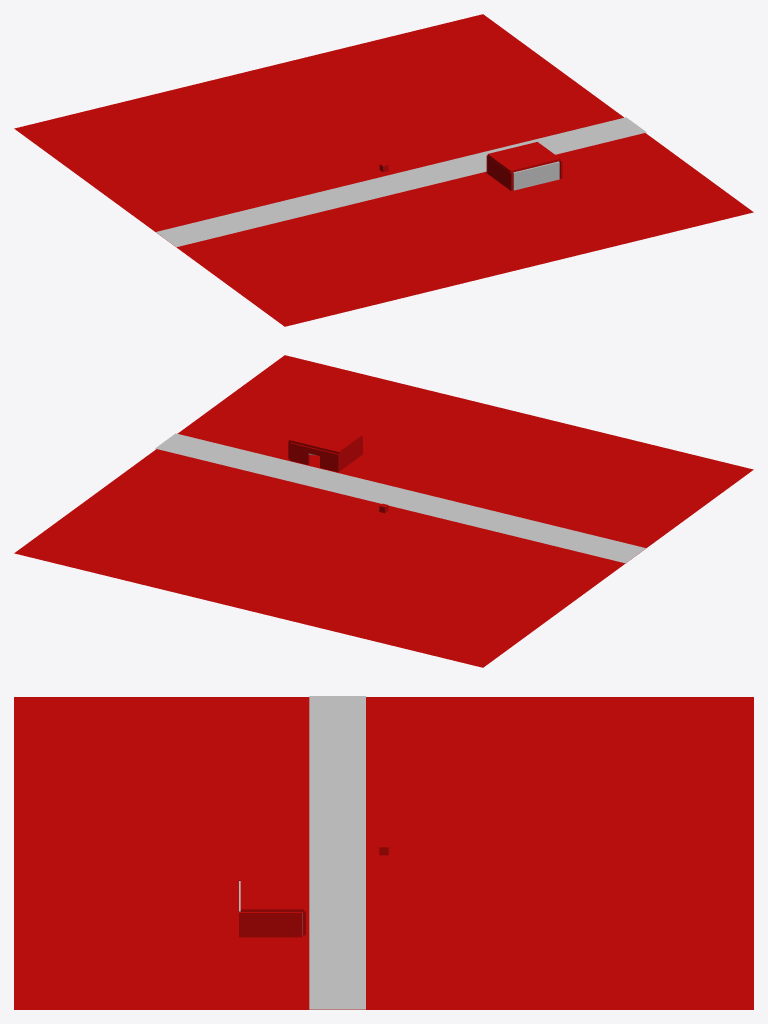
Rendered from map.obj.
3 renders of one model, top to bottom at view 1: azimuth 30°, elevation 25°; view 2: azimuth 150°, elevation 25°; view 3: azimuth 270°, elevation 25°, orthographic. The views are drawn at different scales.
Size of the model in its own units: 366 by 15.63 by 365.
